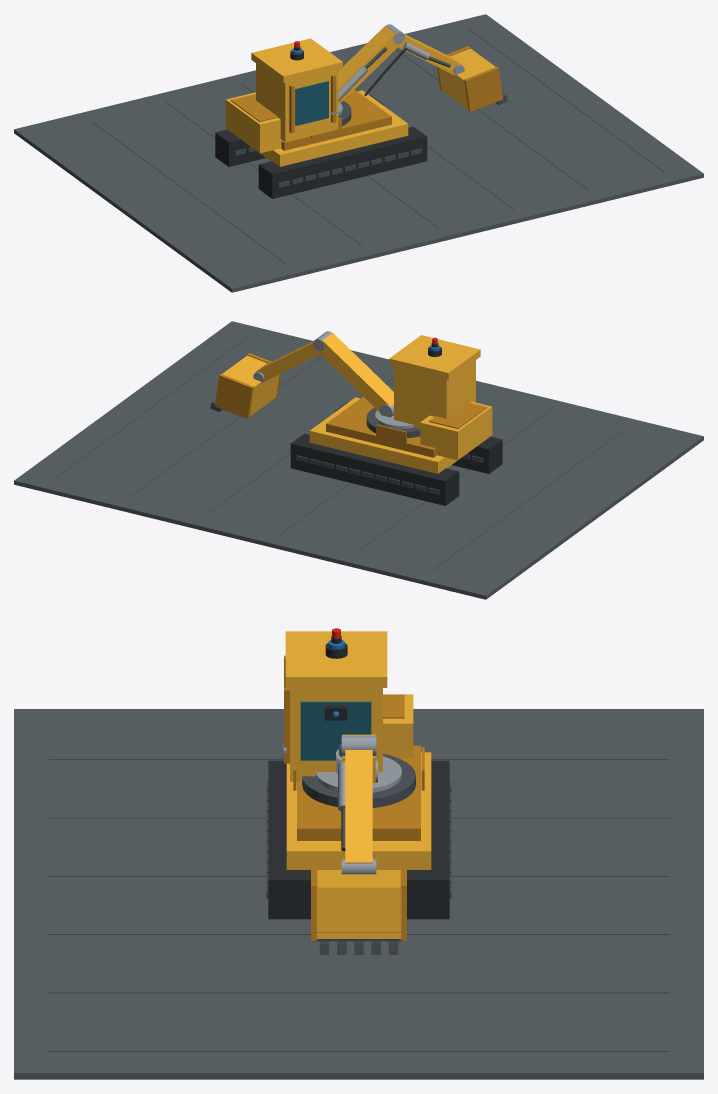
The model's file is Autonomous_Excavator_Professional.glb.
3 views of the same model, one above another, from view 1: azimuth 30°, elevation 25°; view 2: azimuth 150°, elevation 25°; view 3: azimuth 270°, elevation 25° (orthographic). The views are drawn at different scales.
Visible parts, largest first — view 1: Ground, Track_Base, Cabin_Main, Lower_Chassis, Cabin_Roof, Rear_Counterweight, Upper_Chassis, Main_Boom, Bucket_Main, Side_Glass, Bucket_Side, Track_Base.001 (+2 smaller); view 2: Ground, Track_Base.001, Cabin_Main, Lower_Chassis, Cabin_Roof, Rear_Counterweight, Main_Boom, Upper_Chassis, Bucket_Main, Bucket_Side.001, Track_Base, Bucket_Arm (+2 smaller); view 3: Ground, Bucket_Main, Cabin_Roof, Lower_Chassis, Track_Base.001, Upper_Chassis, Track_Base, Cabin_Main, Bucket_Arm, Front_Glass, Swing_Platform, Rear_Counterweight (+5 smaller).
Part boxes in pixels (box(x1,y1,x2,y2)): Ground: box(14, 14, 703, 292); Track_Base: box(258, 126, 427, 198); Cabin_Main: box(256, 63, 338, 142); Lower_Chassis: box(260, 90, 408, 166); Cabin_Roof: box(251, 38, 342, 83); Rear_Counterweight: box(225, 92, 282, 153); Upper_Chassis: box(281, 89, 391, 150); Main_Boom: box(338, 26, 402, 104); Bucket_Main: box(438, 48, 495, 109); Side_Glass: box(295, 81, 328, 125); Bucket_Side: box(464, 67, 502, 111); Track_Base.001: box(215, 95, 383, 166); Ground: box(14, 321, 703, 599); Track_Base.001: box(290, 433, 459, 505); Cabin_Main: box(394, 360, 475, 428); Lower_Chassis: box(309, 397, 457, 473); Cabin_Roof: box(389, 335, 480, 379); Rear_Counterweight: box(420, 401, 492, 460); Main_Boom: box(315, 333, 393, 412); Upper_Chassis: box(326, 396, 436, 457); Bucket_Main: box(222, 355, 279, 416); Bucket_Side.001: box(215, 374, 253, 418); Track_Base: box(334, 402, 502, 473); Bucket_Arm: box(256, 341, 319, 382); Ground: box(14, 709, 703, 1079); Bucket_Main: box(316, 870, 401, 938); Cabin_Roof: box(285, 631, 387, 687); Lower_Chassis: box(286, 752, 431, 869); Track_Base.001: box(407, 760, 449, 919); Upper_Chassis: box(297, 745, 420, 840); Track_Base: box(268, 760, 310, 919); Cabin_Main: box(290, 688, 382, 781); Bucket_Arm: box(345, 750, 372, 863); Front_Glass: box(300, 701, 371, 760); Swing_Platform: box(302, 754, 415, 807); Rear_Counterweight: box(383, 694, 413, 757).
Bounding box in the file's own units: 25 × 6.84 × 20.
